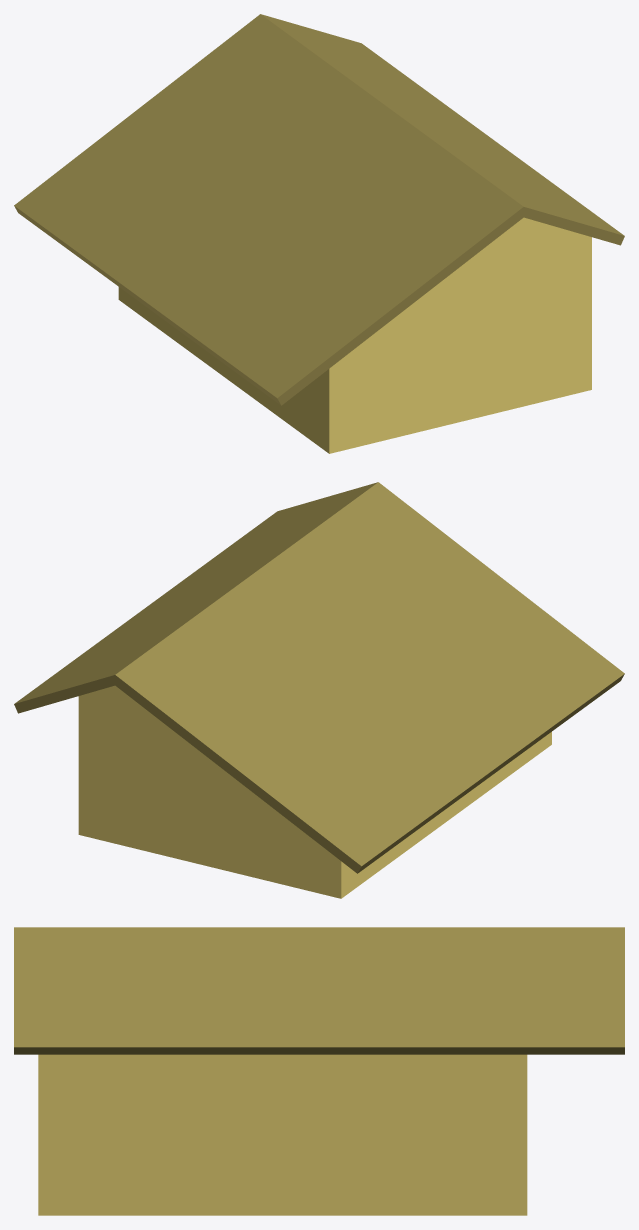
The model's file is result.glb.
The picture shows the model from 3 angles, top to bottom: view 1: azimuth 30°, elevation 25°; view 2: azimuth 150°, elevation 25°; view 3: azimuth 270°, elevation 25°; orthographic projection. The views are drawn at different scales.
Parts seen in each view (by area): view 1: 06838ed5-c7d1-472d-8481-ffc2a8a0f2ea__undefined (×2), 2e81ef43-3062-4ea5-84c6-1dcf51c00863__undefined; view 2: 06838ed5-c7d1-472d-8481-ffc2a8a0f2ea__undefined (×2), 2e81ef43-3062-4ea5-84c6-1dcf51c00863__undefined; view 3: 2e81ef43-3062-4ea5-84c6-1dcf51c00863__undefined, 06838ed5-c7d1-472d-8481-ffc2a8a0f2ea__undefined.
Boxes of the visible parts, x1,y1,x2,y2 form: 06838ed5-c7d1-472d-8481-ffc2a8a0f2ea__undefined (×2): (14,14,624,405); 2e81ef43-3062-4ea5-84c6-1dcf51c00863__undefined: (118,217,591,453); 06838ed5-c7d1-472d-8481-ffc2a8a0f2ea__undefined (×2): (14,482,624,873); 2e81ef43-3062-4ea5-84c6-1dcf51c00863__undefined: (78,685,551,898); 2e81ef43-3062-4ea5-84c6-1dcf51c00863__undefined: (38,1054,527,1215); 06838ed5-c7d1-472d-8481-ffc2a8a0f2ea__undefined: (14,927,624,1054).
Bounding box in the file's own units: 953 × 550 × 1250.
